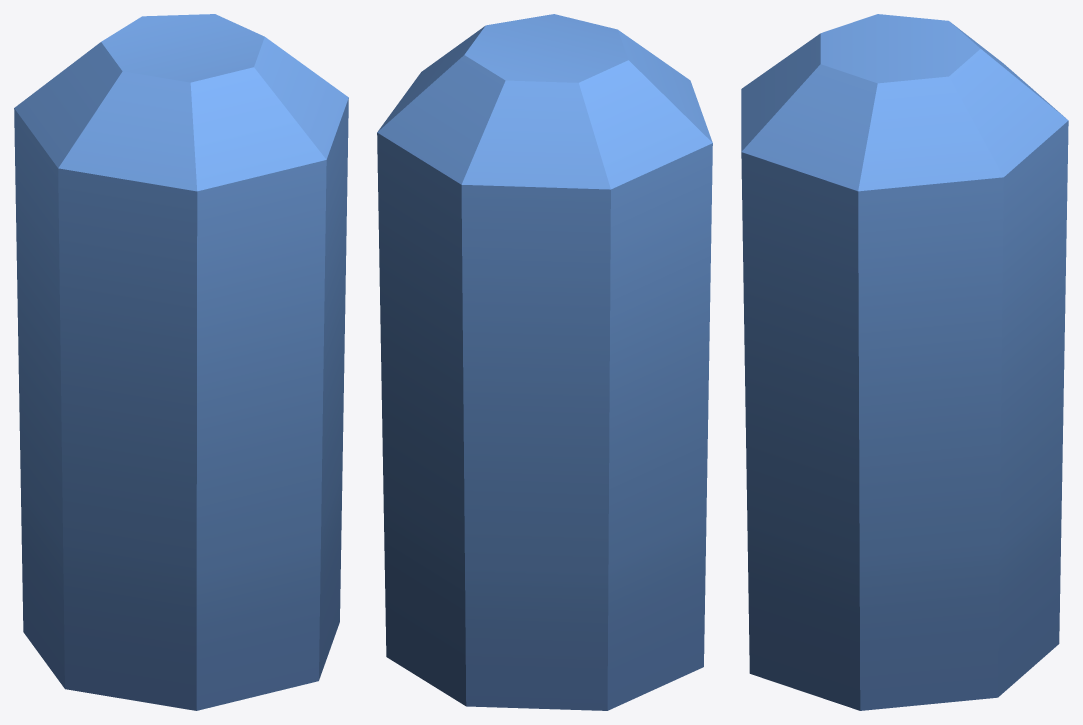
File: Crystal010.fbx
The picture shows the model from 3 angles, left to right: view 1: azimuth 30°, elevation 25°; view 2: azimuth 150°, elevation 25°; view 3: azimuth 270°, elevation 25°; orthographic projection.
Parts seen in each view (by area): view 1: Crystal010; view 2: Crystal010; view 3: Crystal010.
Boxes of the visible parts, <box> form: Crystal010: <box>14,14,348,710</box>; Crystal010: <box>377,14,712,710</box>; Crystal010: <box>741,14,1068,710</box>.
Bounding box in the file's own units: 49.69 × 97.23 × 48.45.
